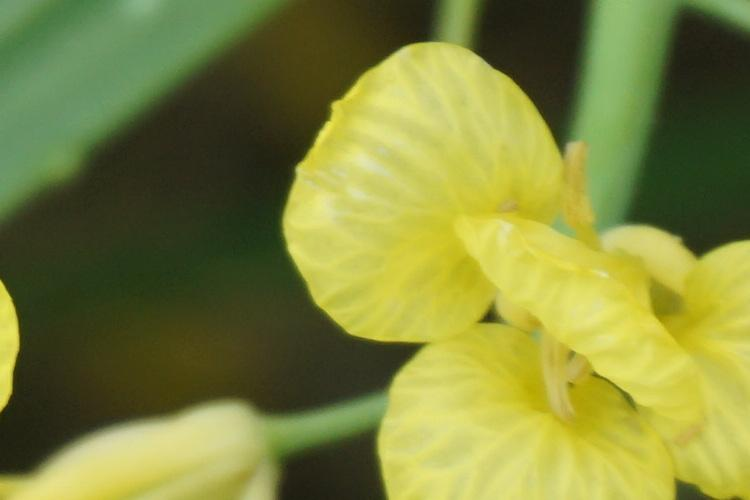yellow: (340, 171, 748, 500), (299, 41, 590, 348)
